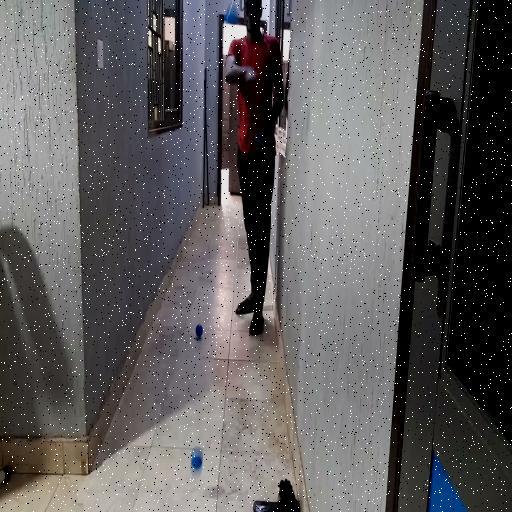plastic-ball: (223, 0, 238, 25)
